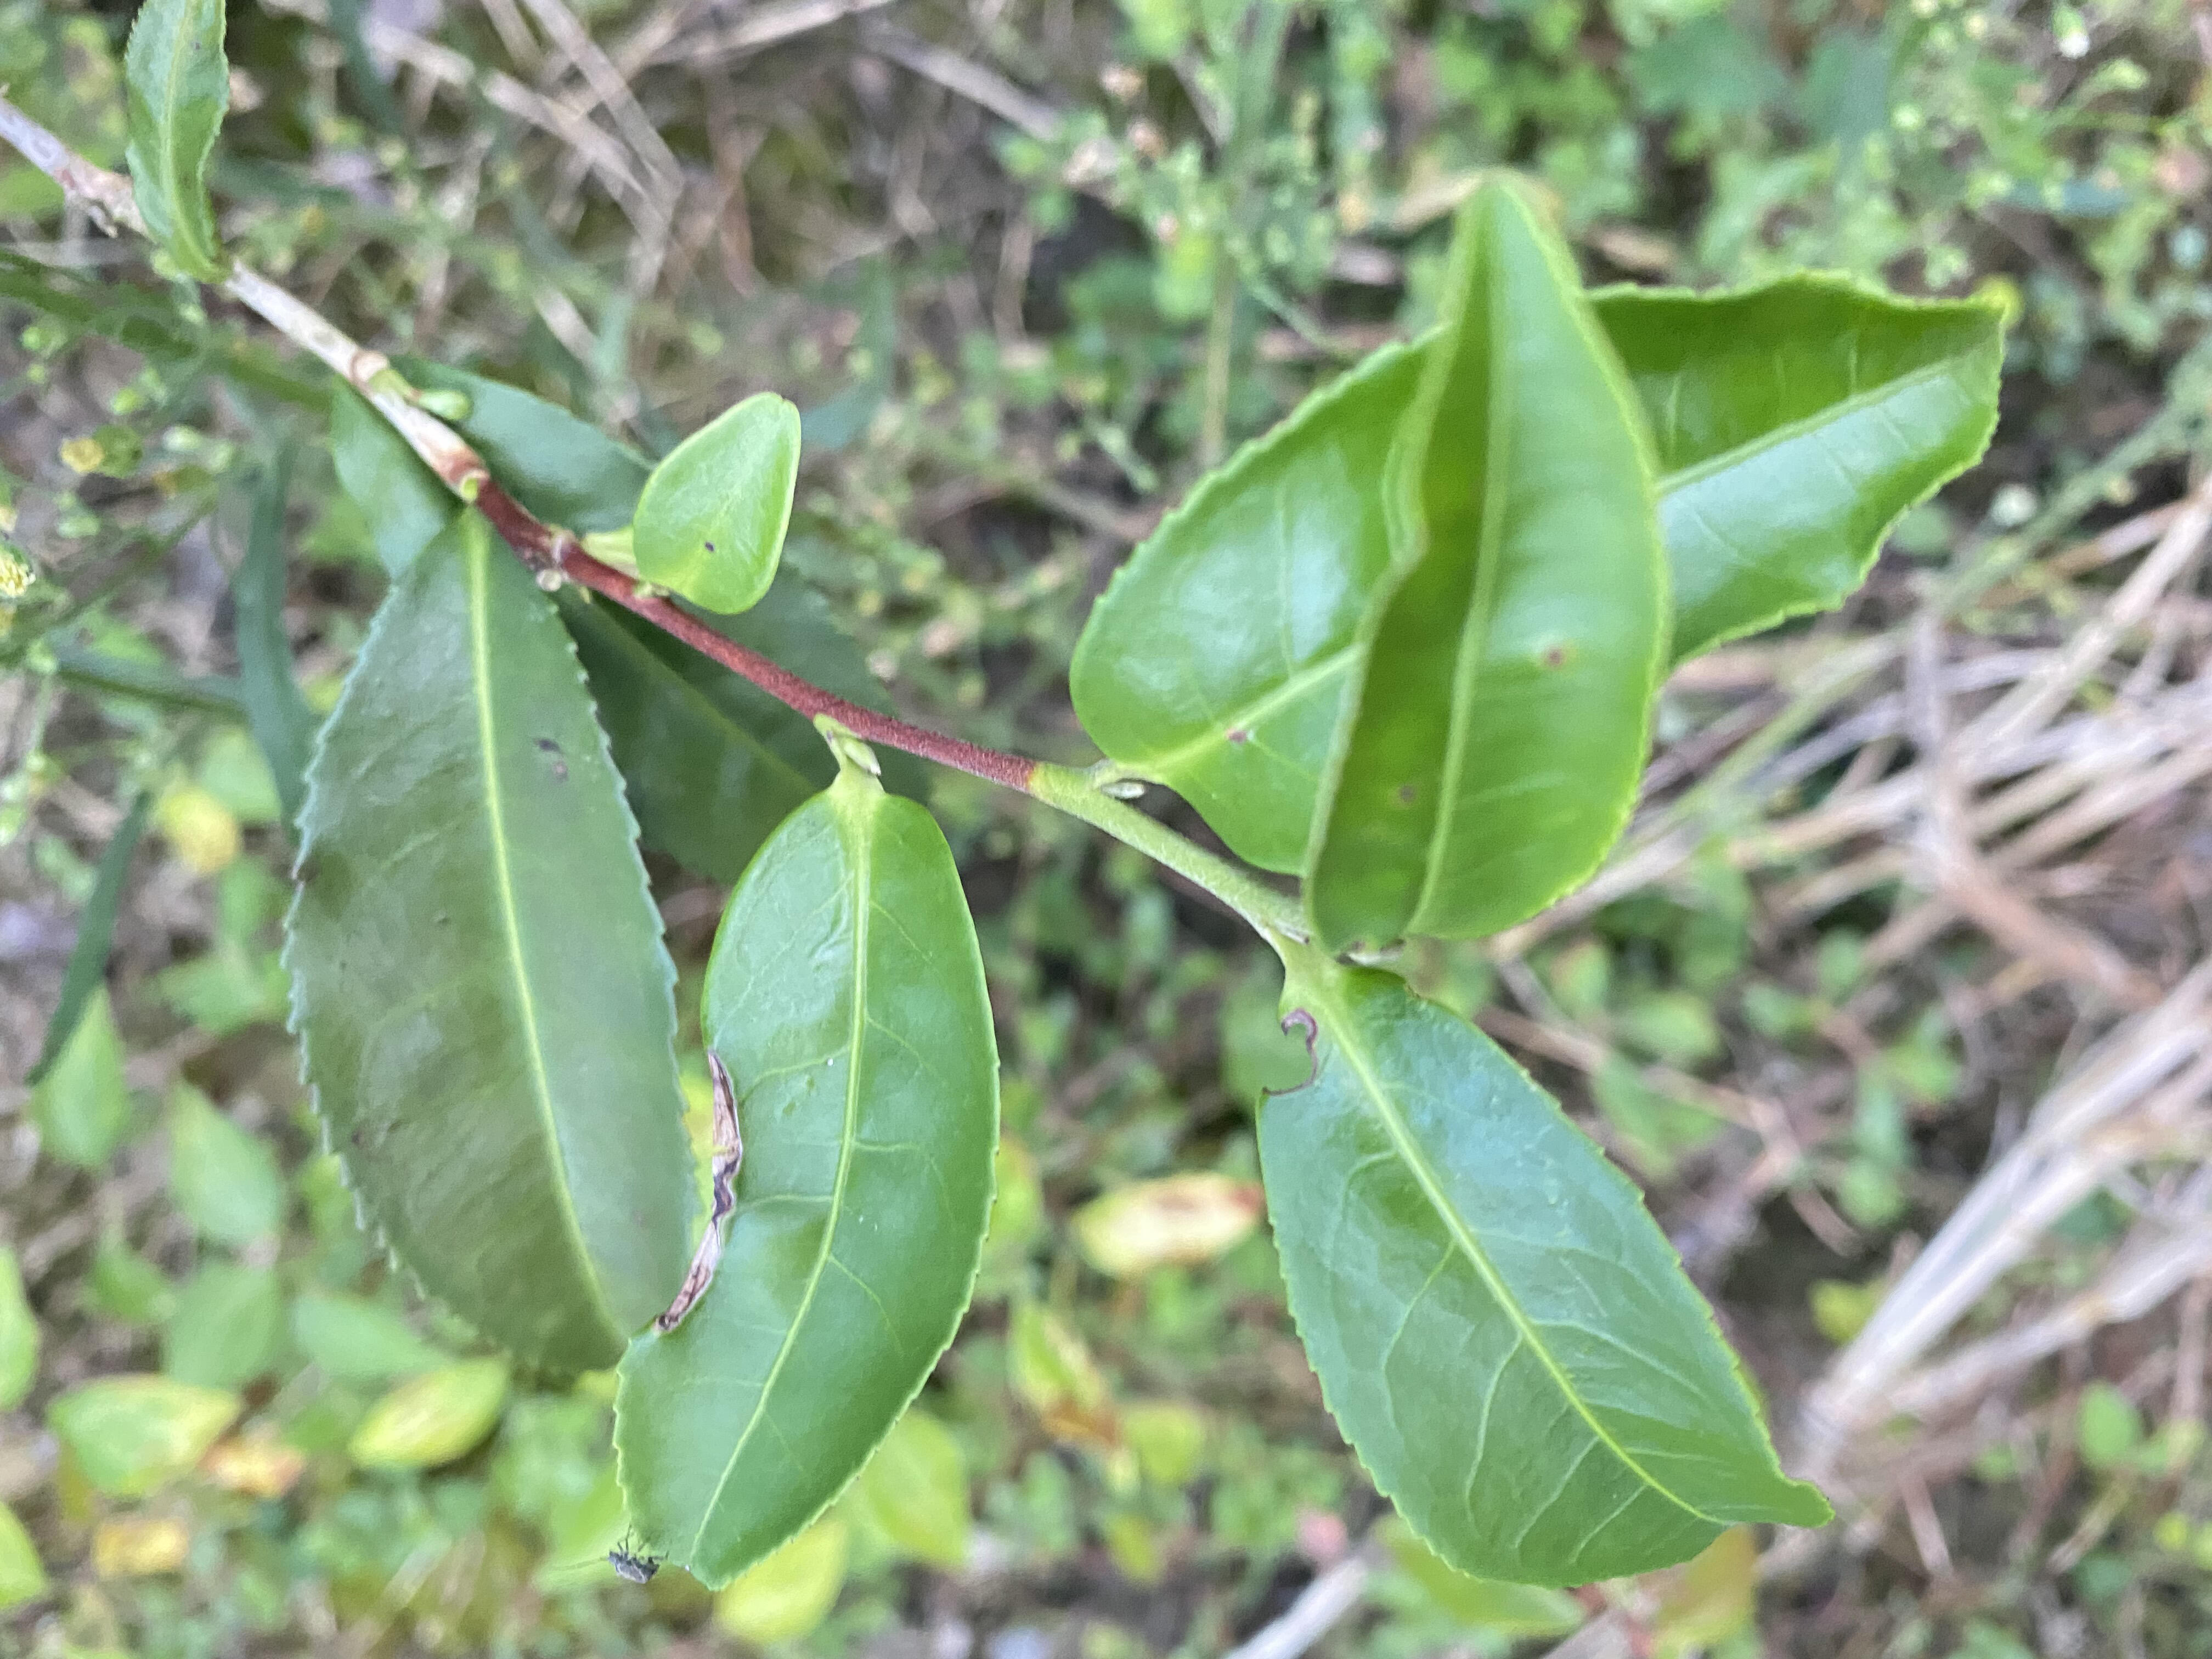chihuo_low: (1254, 969, 1834, 1589)
tanju_high: (610, 786, 1000, 1591)
tanju_low: (1064, 275, 2008, 877), (1308, 178, 1672, 953)
